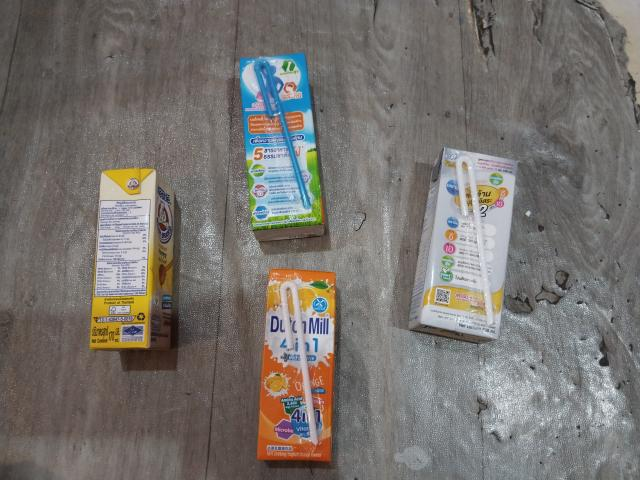drink_box: (234, 52, 331, 246), (418, 148, 510, 344), (89, 167, 177, 356), (259, 266, 340, 460)
